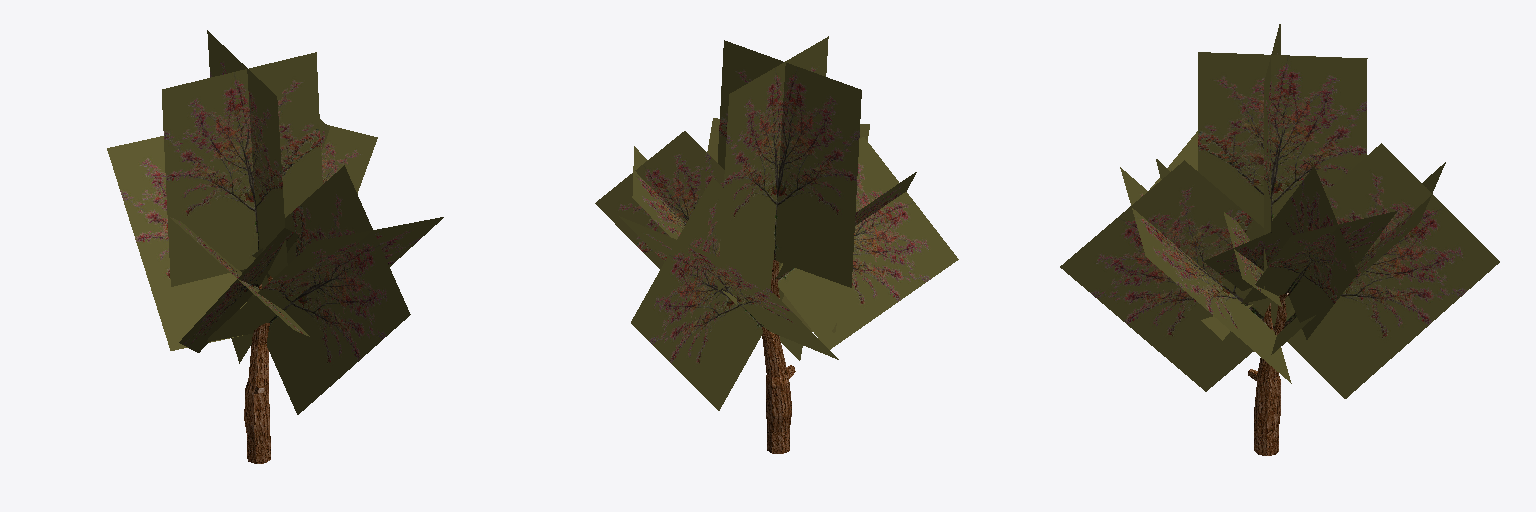
3 renders of one model, left to right at view 1: azimuth 30°, elevation 25°; view 2: azimuth 150°, elevation 25°; view 3: azimuth 270°, elevation 25°, orthographic.
Parts seen in each view (by area): view 1: mat_tree1_1; view 2: mat_tree1_1; view 3: mat_tree1_1.
Boxes of the visible parts, x1=… form: mat_tree1_1: x1=107, y1=30, x2=443, y2=463; mat_tree1_1: x1=595, y1=36, x2=958, y2=453; mat_tree1_1: x1=1060, y1=24, x2=1499, y2=455.
Size of the model in its own units: 211 by 296 by 299.
1 materials, 1 textured.